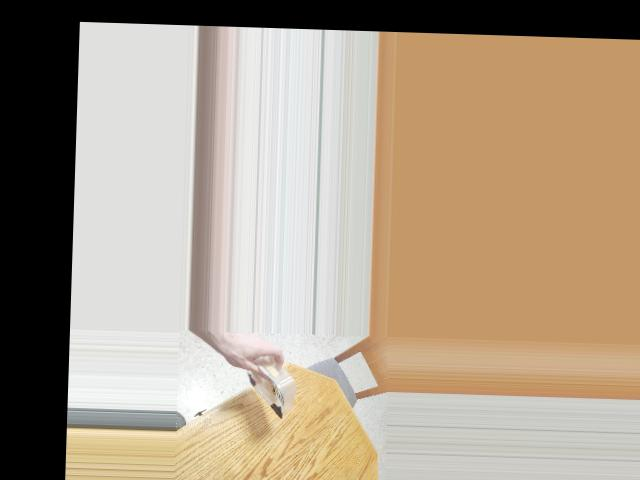cheese: (237, 352, 310, 411)
